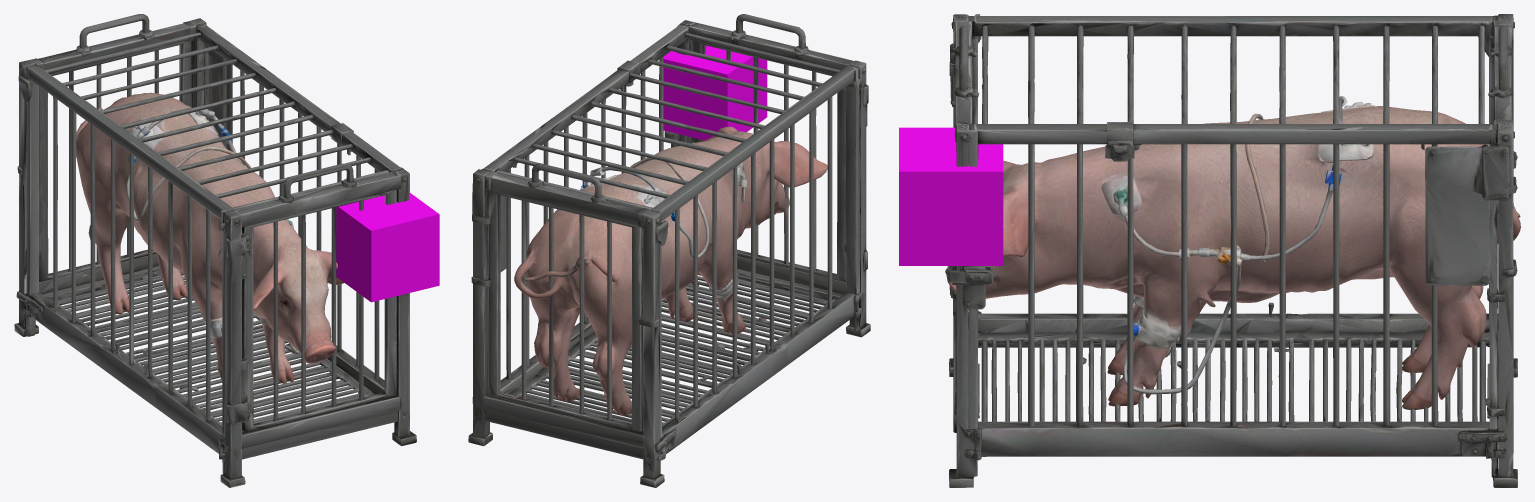
The model's file is fitter.glb.
3 views of the same model, side by side, from view 1: azimuth 30°, elevation 25°; view 2: azimuth 150°, elevation 25°; view 3: azimuth 270°, elevation 25° (orthographic). The views are drawn at different scales.
Visible parts, largest first — view 1: cage, latch_proxy; view 2: cage, latch_proxy; view 3: cage, latch_proxy.
Boxes of the visible parts, left/top/right/bottom form: cage: left=14, top=14, right=416, bottom=487; latch_proxy: left=336, top=193, right=439, bottom=302; cage: left=468, top=14, right=870, bottom=487; latch_proxy: left=663, top=45, right=767, bottom=140; cage: left=945, top=14, right=1520, bottom=487; latch_proxy: left=899, top=127, right=1003, bottom=265.
Bounding box in the file's own units: 0.7074 × 1.02 × 1.49.
Materials: 3 (1 with a texture image).
